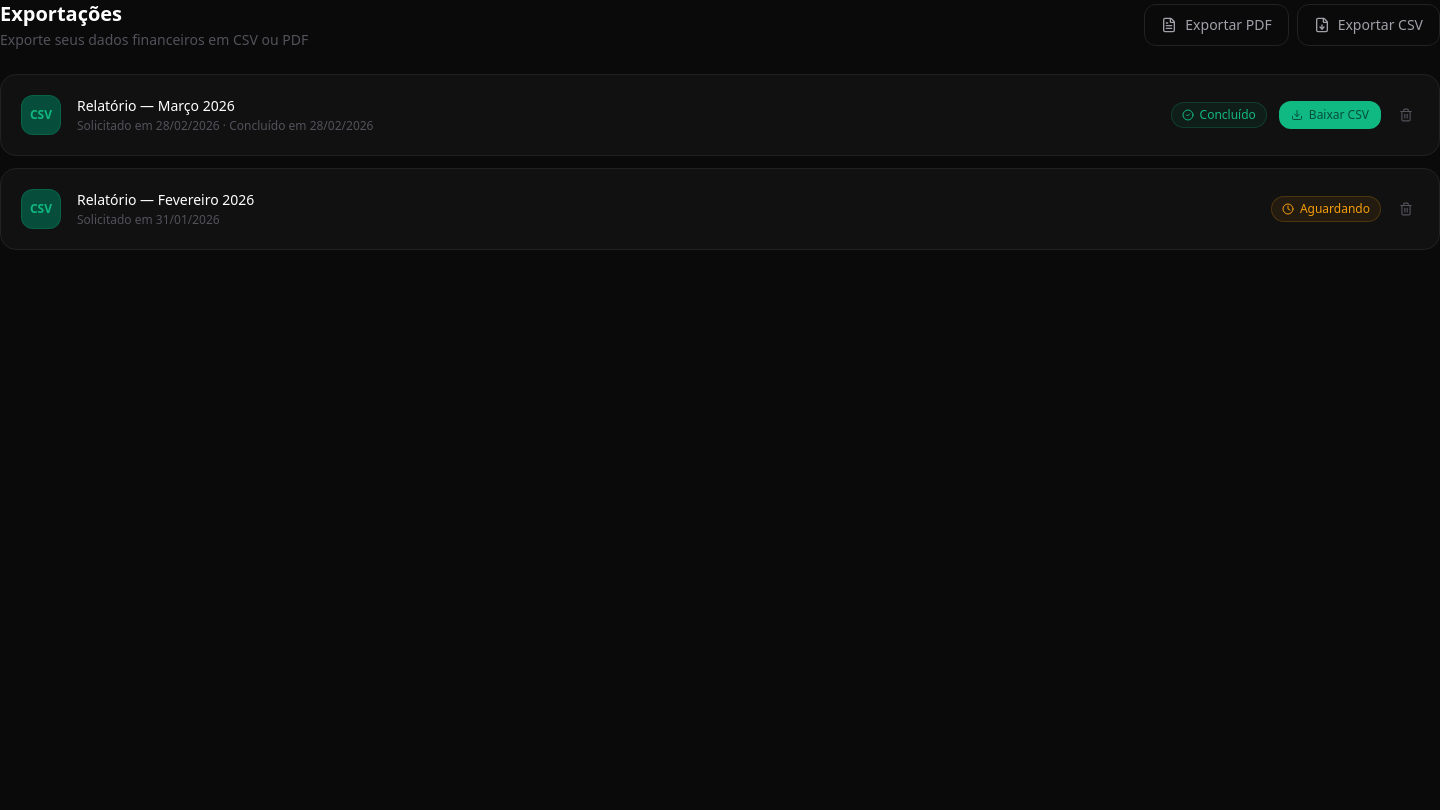
ExportsPage › deve abrir modal ao clicar em Exportar CSV
Click the button "Exportar CSV": [1368, 25] box [1297,4,1439,46]
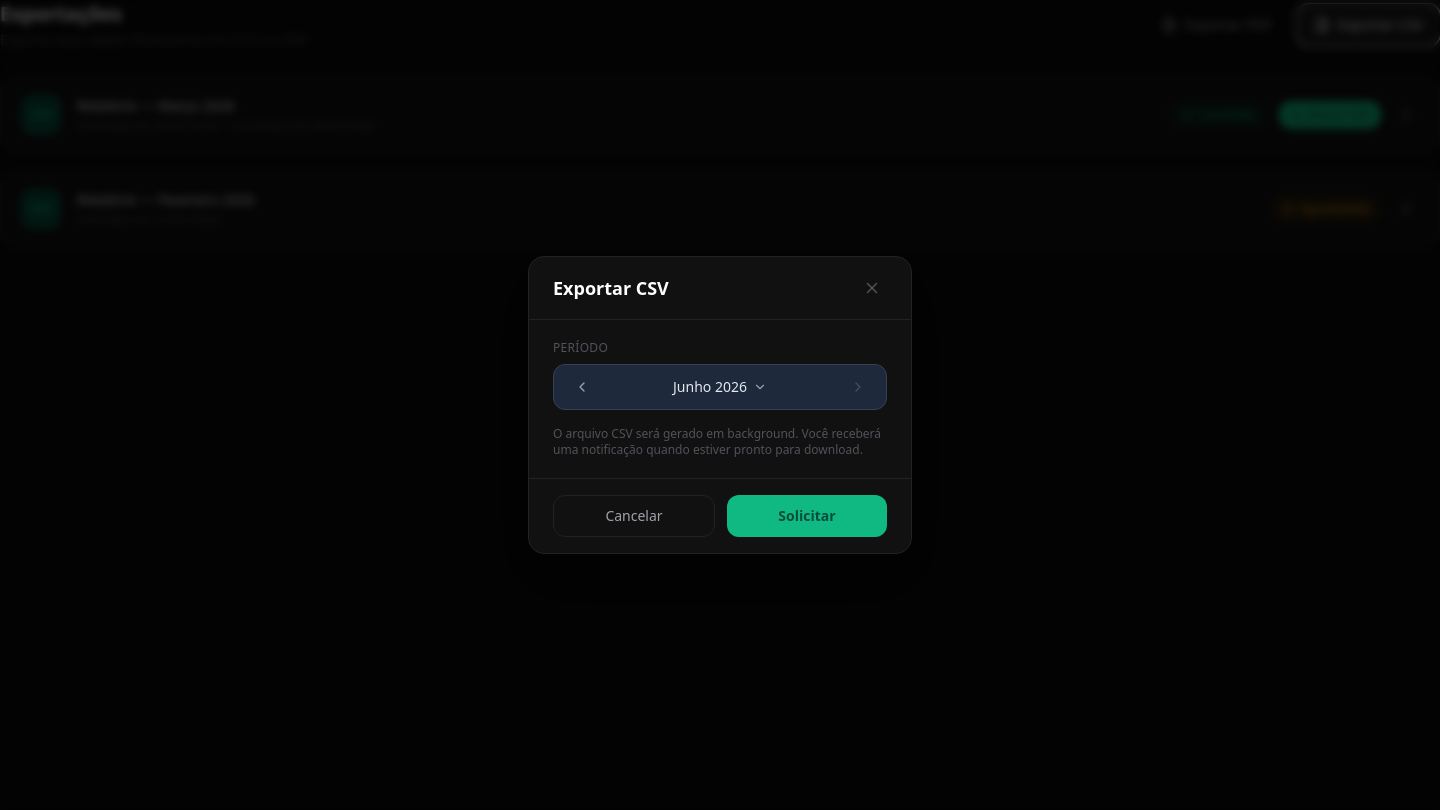
Now the button "Solicitar" is shown, box [727,495,887,537]
